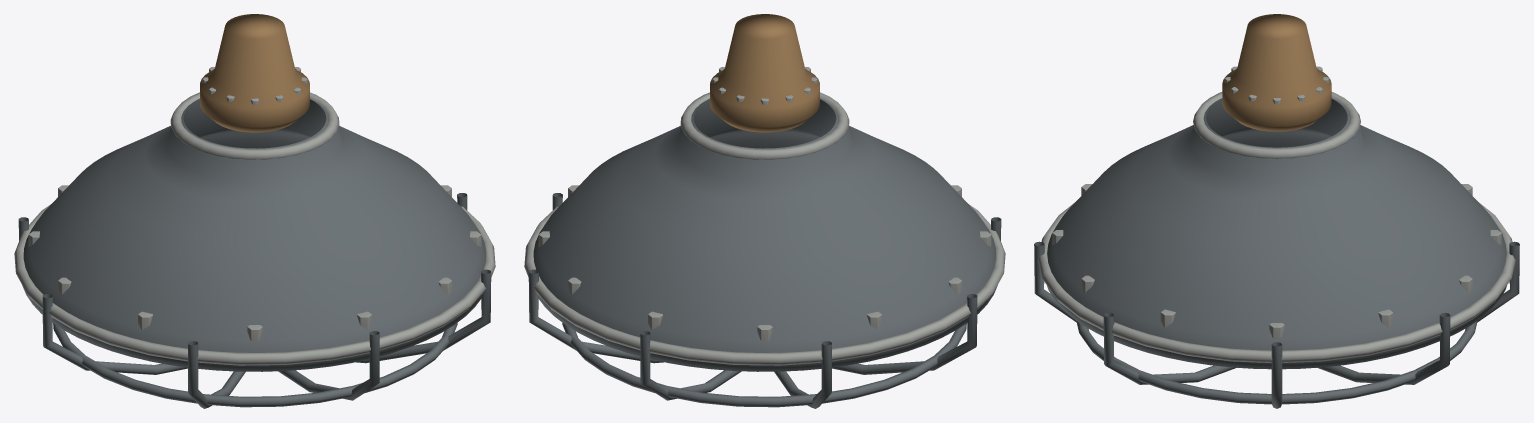
File: foundry-pendant.glb
The picture shows the model from 3 angles, left to right: view 1: azimuth 30°, elevation 25°; view 2: azimuth 150°, elevation 25°; view 3: azimuth 270°, elevation 25°; orthographic projection.
Visible parts, largest first — view 1: Pendant_Foundry_Iron, Pendant_Foundry_Machined, Pendant_Foundry_Bronze; view 2: Pendant_Foundry_Iron, Pendant_Foundry_Machined, Pendant_Foundry_Bronze; view 3: Pendant_Foundry_Iron, Pendant_Foundry_Machined, Pendant_Foundry_Bronze.
Part boxes in pixels (<box>): Pendant_Foundry_Iron: <box>18,98,491,408</box>; Pendant_Foundry_Machined: <box>14,67,495,365</box>; Pendant_Foundry_Bronze: <box>200,14,309,132</box>; Pendant_Foundry_Iron: <box>528,98,1001,408</box>; Pendant_Foundry_Machined: <box>524,67,1005,365</box>; Pendant_Foundry_Bronze: <box>710,14,819,132</box>; Pendant_Foundry_Iron: <box>1034,98,1519,408</box>; Pendant_Foundry_Machined: <box>1038,66,1515,362</box>; Pendant_Foundry_Bronze: <box>1222,14,1331,131</box>.
Size of the model in its own units: 2.13 by 1.57 by 2.13.
